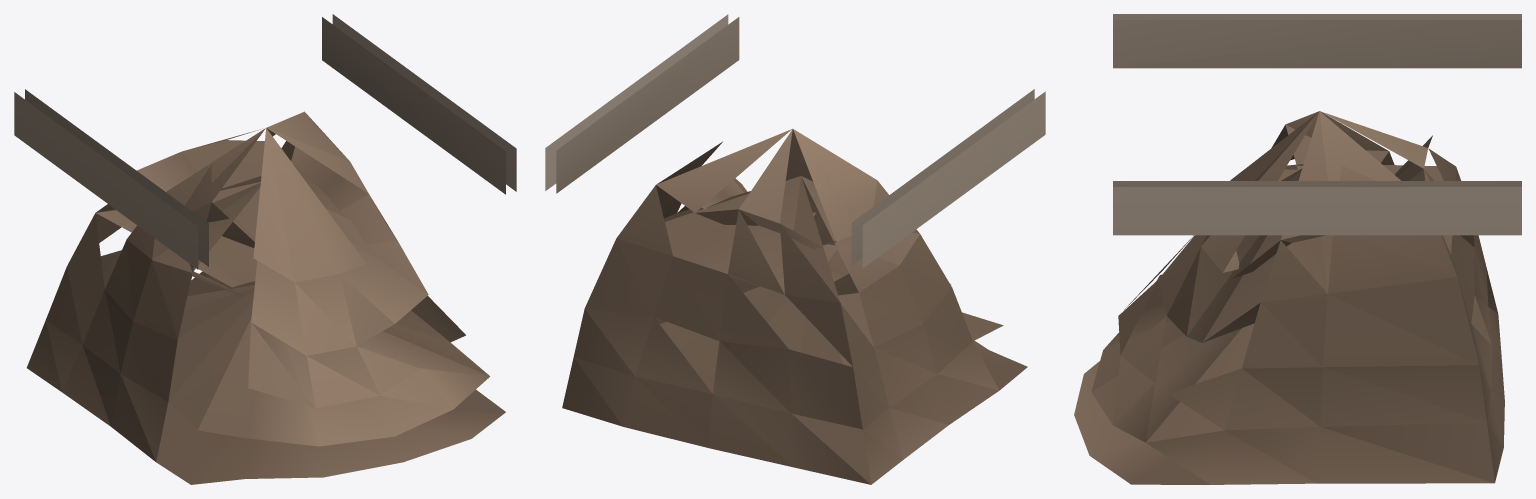
File: compost.lod.glb
3 renders of one model, left to right at view 1: azimuth 30°, elevation 25°; view 2: azimuth 150°, elevation 25°; view 3: azimuth 270°, elevation 25°, orthographic. The views are drawn at different scales.
Visible parts, largest first — view 1: compost.001; view 2: compost.001; view 3: compost.001.
Boxes of the visible parts, bbox=[...] form: compost.001: bbox=[14, 14, 516, 484]; compost.001: bbox=[545, 14, 1045, 484]; compost.001: bbox=[1074, 14, 1521, 484].
Bounding box in the file's own units: 0.88 × 0.7338 × 0.9637.
